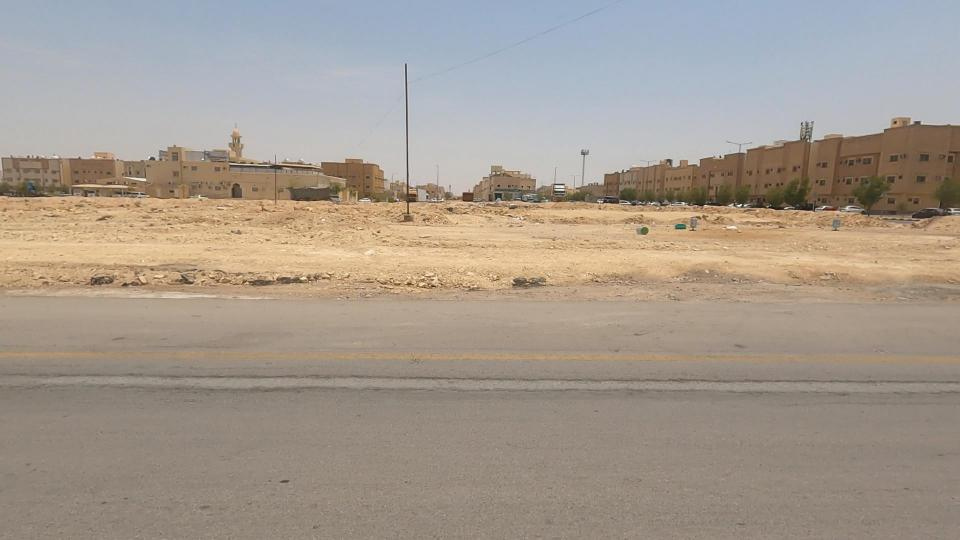GARBAGE: (490, 196, 559, 246), (707, 195, 753, 257), (607, 203, 662, 253), (656, 207, 703, 246)
